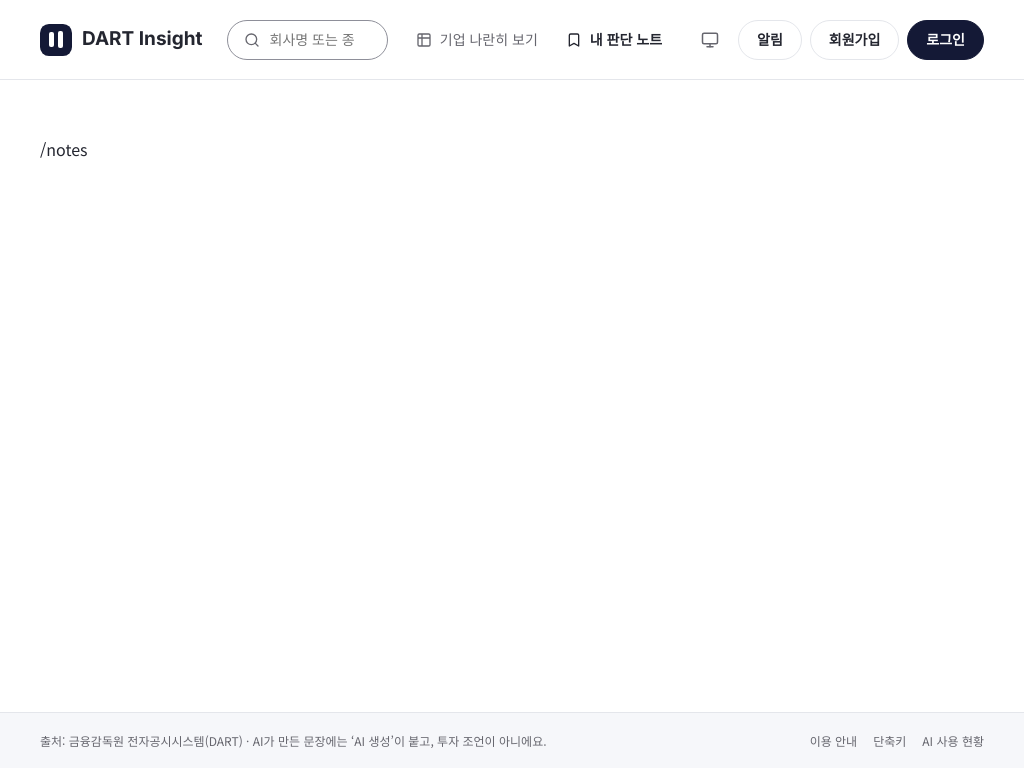
Test: Layout 상단 바·하단 바(#548) › 하단 바에 출처·AI 안내와 이용 안내·단축키·AI 사용 현황을 두고, 이용 안내와 단축키는 대화상자로 연다
This screenshot has width=1024, height=768.
Expected: the footer shows "출처: 금융감독원 전자공시시스템(DART)", [40,732,546,749]
Click the button "이용 안내" at (833, 740), box [810,731,857,750]
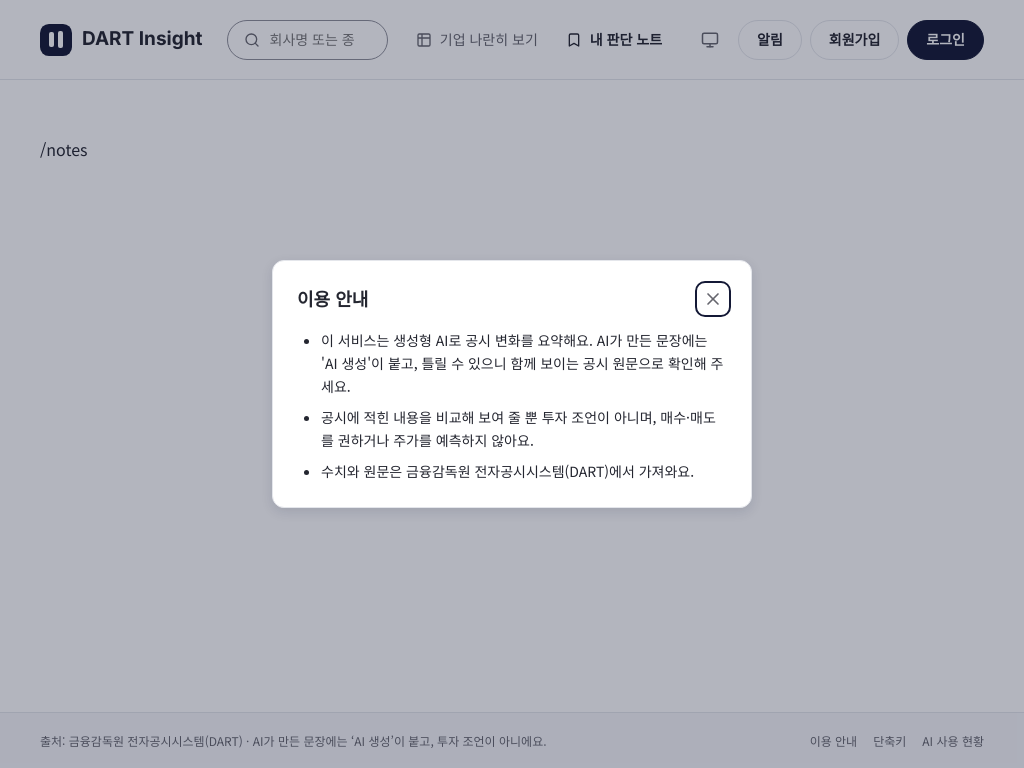
Expected: the dialog "이용 안내" shows "투자 조언이 아니며", [321,407,716,450]
Press Escape in the dialog "이용 안내", box [272,260,752,508]
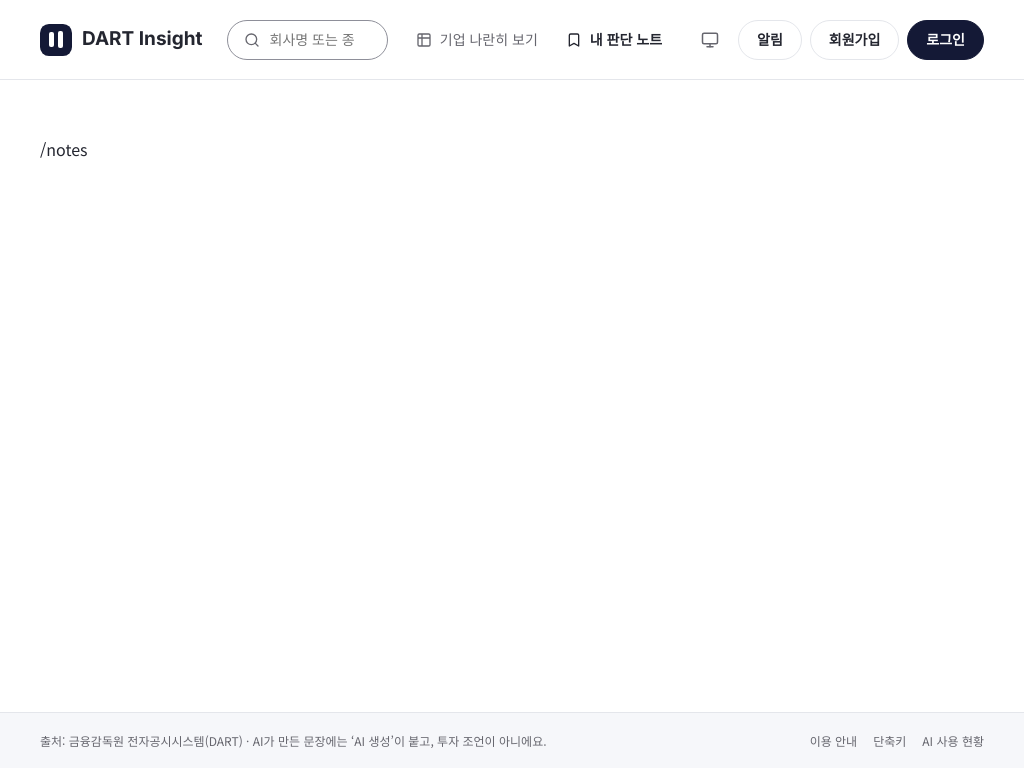
Click the button "단축키" at (890, 740), box [873,731,906,750]
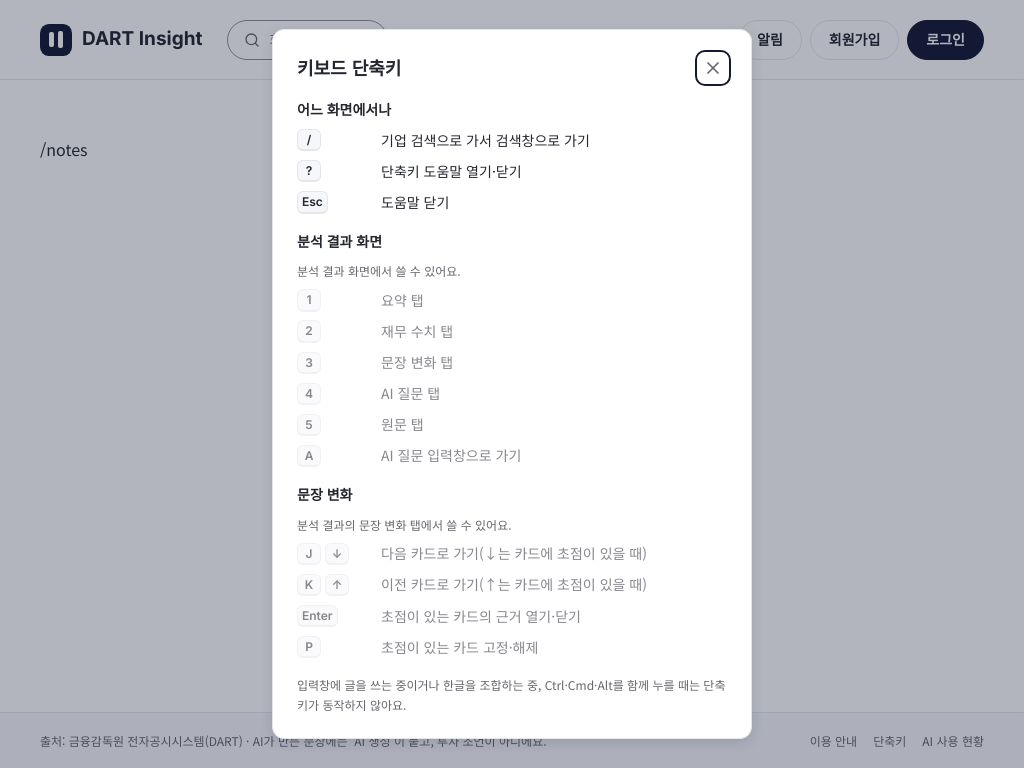
Expected: the dialog "키보드 단축키" is shown, [272,29,752,739]
